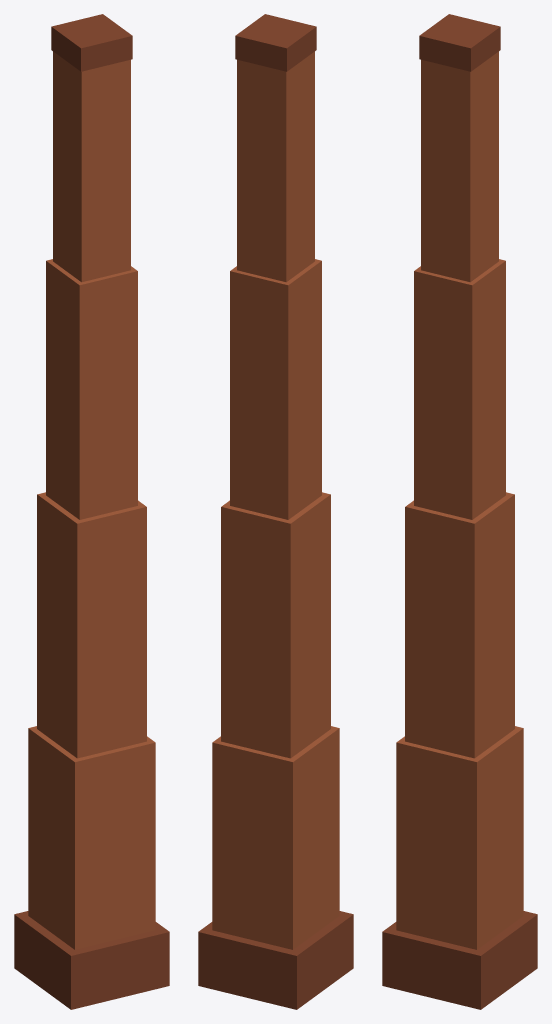
Rendered from chamine_a.glb.
3 views of the same model, side by side, from view 1: azimuth 30°, elevation 25°; view 2: azimuth 150°, elevation 25°; view 3: azimuth 330°, elevation 25° (orthographic).
Parts seen in each view (by area): view 1: chamine_a; view 2: chamine_a; view 3: chamine_a.
Boxes of the visible parts, left/top/right/bottom form: chamine_a: left=14, top=14, right=169, bottom=1009; chamine_a: left=198, top=14, right=353, bottom=1009; chamine_a: left=382, top=14, right=537, bottom=1009.
Bounding box in the file's own units: 4.4 × 40.3 × 4.4.
